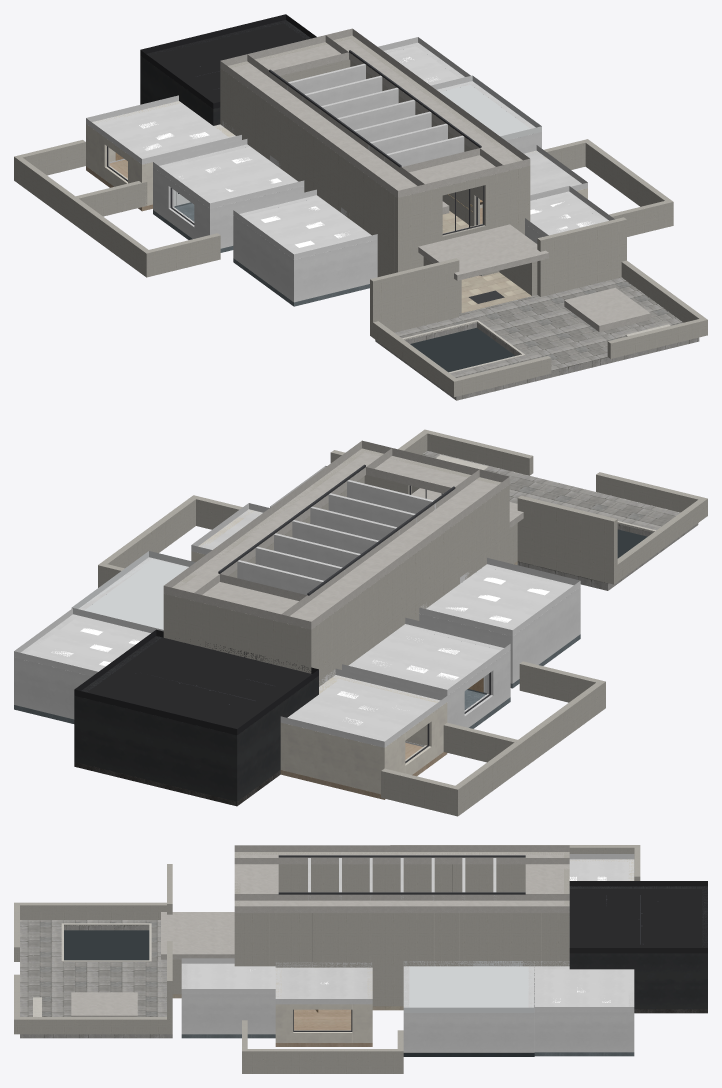
The model's file is institute.glb.
3 renders of one model, top to bottom at view 1: azimuth 30°, elevation 25°; view 2: azimuth 150°, elevation 25°; view 3: azimuth 270°, elevation 25°, orthographic. The views are drawn at different scales.
Visible parts, largest first — view 1: institute; view 2: institute; view 3: institute.
Boxes of the visible parts, bbox=[...] form: institute: bbox=[14, 14, 707, 400]; institute: bbox=[14, 429, 707, 816]; institute: bbox=[14, 845, 707, 1073].
Size of the model in its own units: 33.2 by 8.12 by 47.2.
37 materials, 16 textured.
